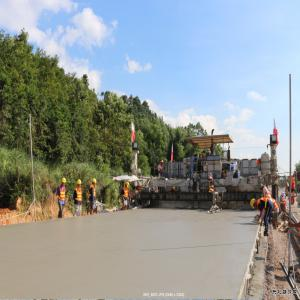none: (260, 184, 264, 192), (162, 161, 165, 166), (195, 155, 198, 159), (203, 151, 206, 155)
yellow: (251, 199, 259, 210), (62, 178, 67, 187), (78, 180, 82, 188), (93, 180, 97, 188), (126, 183, 130, 189), (173, 187, 176, 192)
